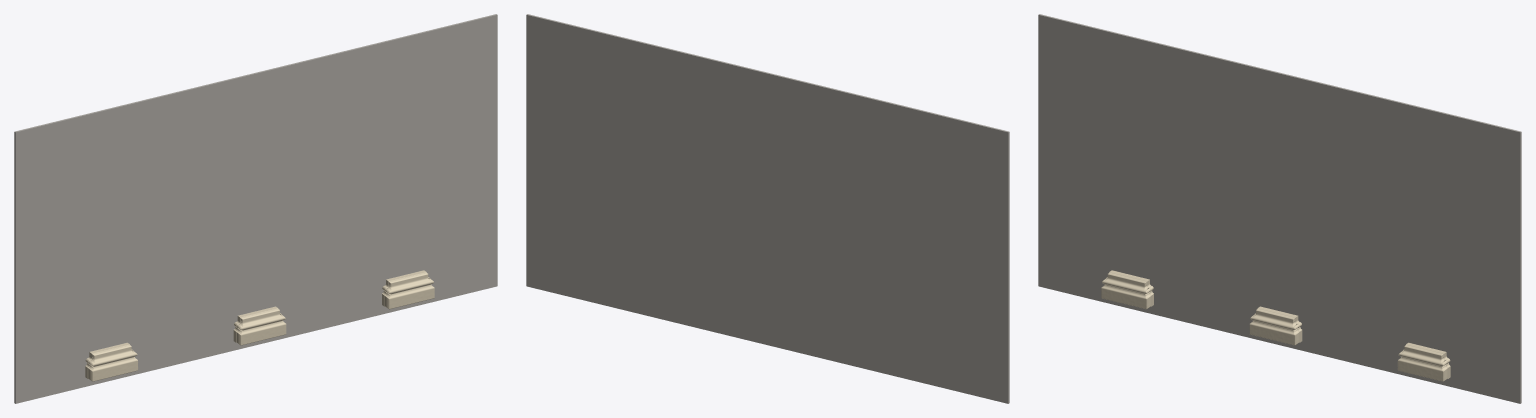
The model's file is terilgan.glb.
3 renders of one model, left to right at view 1: azimuth 30°, elevation 25°; view 2: azimuth 150°, elevation 25°; view 3: azimuth 330°, elevation 25°, orthographic.
Visible parts, largest first — view 1: Devor, t1, t0, t2; view 2: Devor; view 3: Devor, t1, t2, t0.
Part boxes in pixels (box(x1,y1,x2,y2)): Devor: box(14, 14, 497, 403); t1: box(233, 306, 286, 345); t0: box(85, 342, 138, 381); t2: box(382, 270, 434, 309); Devor: box(526, 14, 1009, 403); Devor: box(1038, 14, 1521, 403); t1: box(1249, 306, 1302, 345); t2: box(1397, 342, 1450, 381); t0: box(1101, 270, 1153, 309).
Size of the model in its own units: 2.6 by 1.4 by 0.077.
